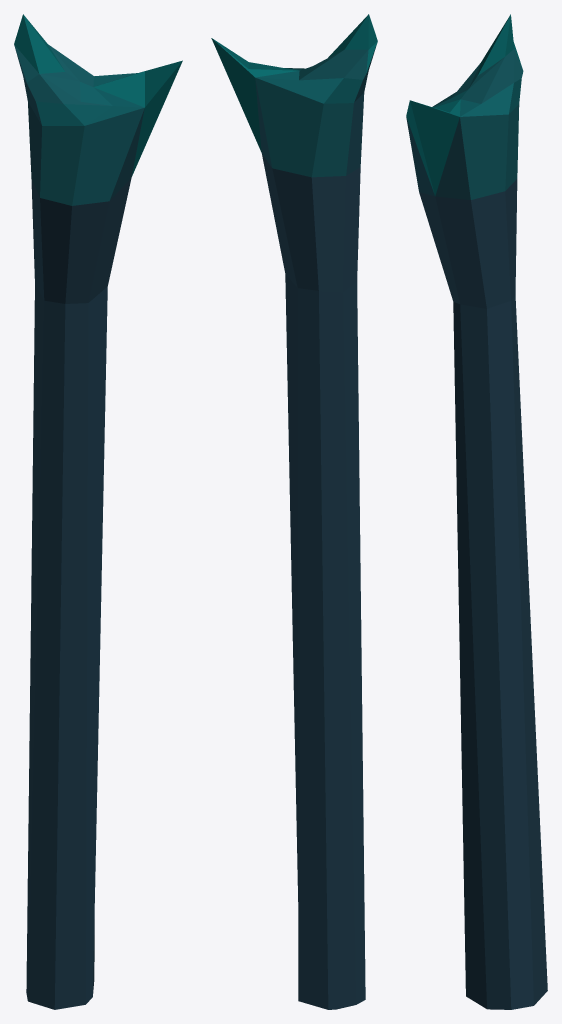
The model's file is Rock_2.fbx.
3 renders of one model, left to right at view 1: azimuth 30°, elevation 25°; view 2: azimuth 210°, elevation 25°; view 3: azimuth 270°, elevation 25°, orthographic. The views are drawn at different scales.
Visible parts, largest first — view 1: Rock_2; view 2: Rock_2; view 3: Rock_2.
Boxes of the visible parts, box(x1,y1,x2,y2) form: Rock_2: box(14, 14, 182, 1009); Rock_2: box(211, 14, 377, 1009); Rock_2: box(406, 14, 547, 1009).
Size of the model in its own units: 10.74 by 87.52 by 11.47.
